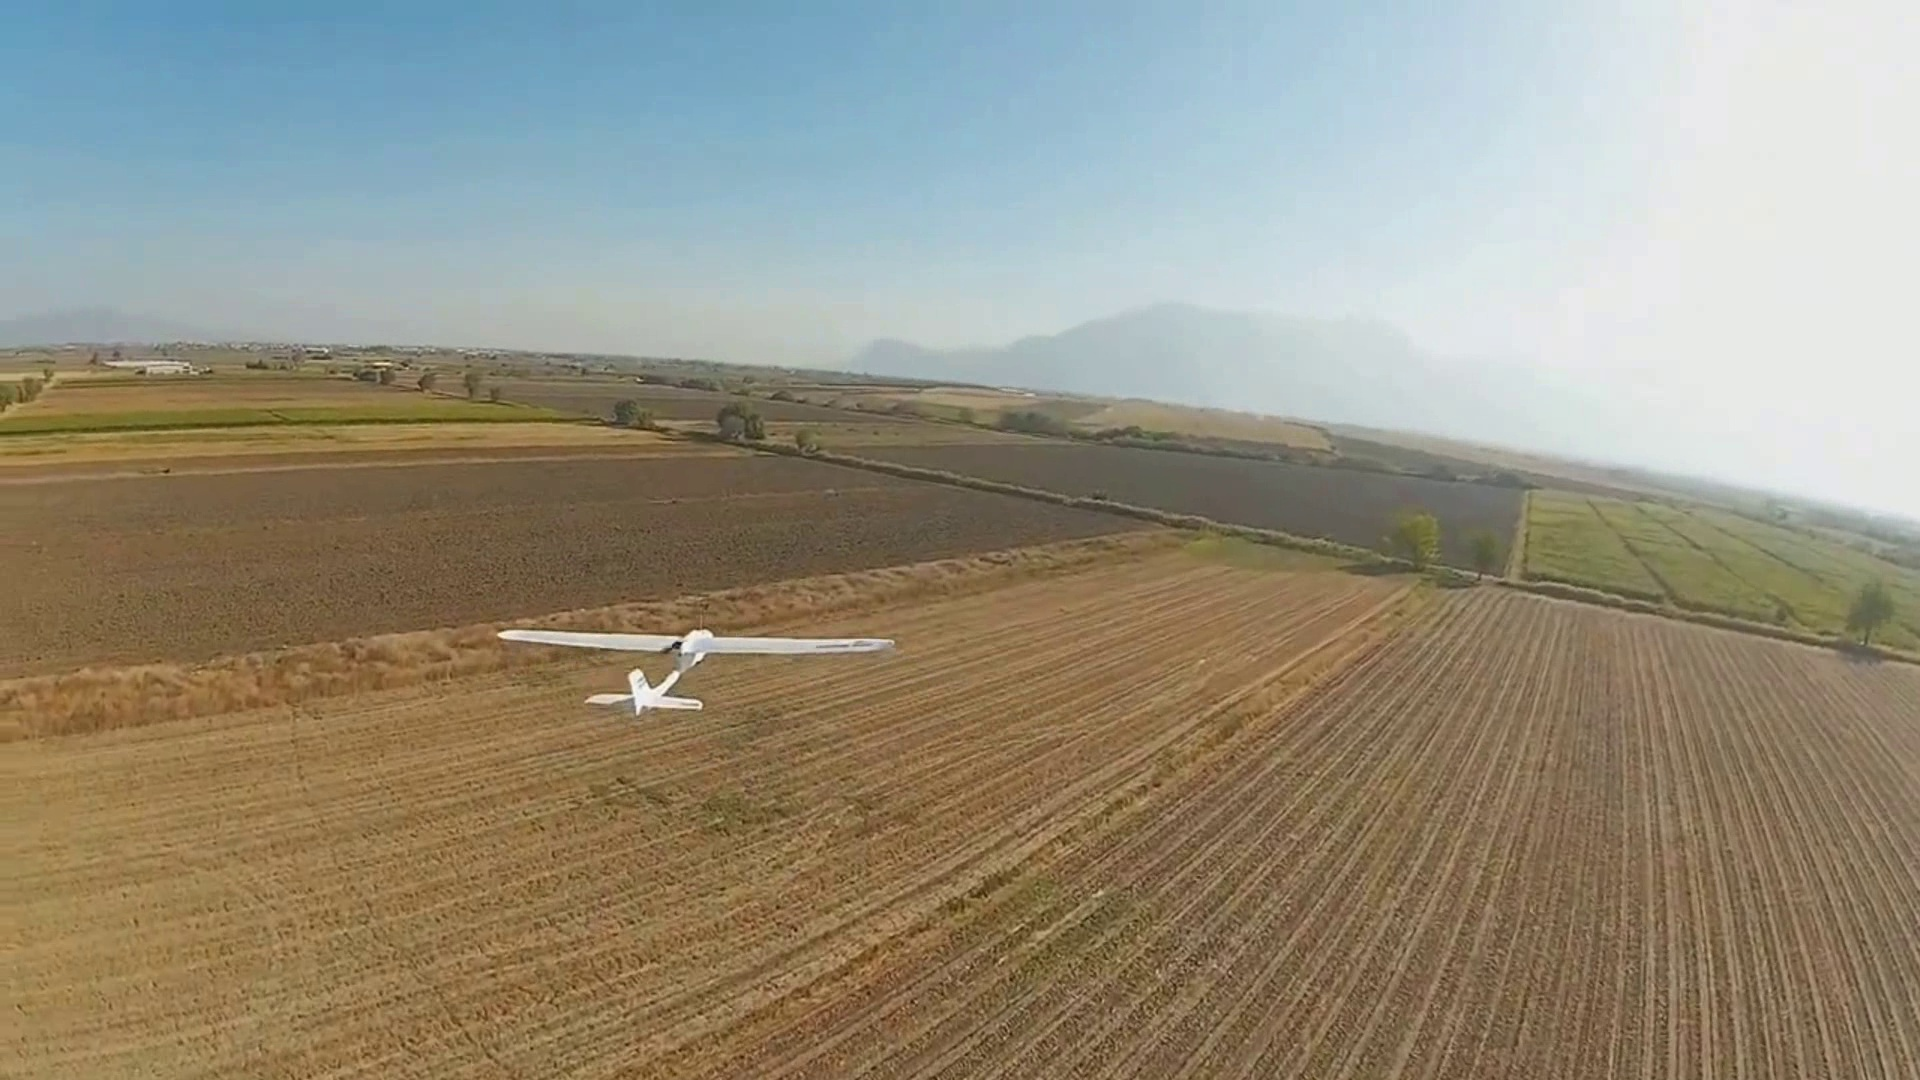airplane: (495, 618, 889, 713)
